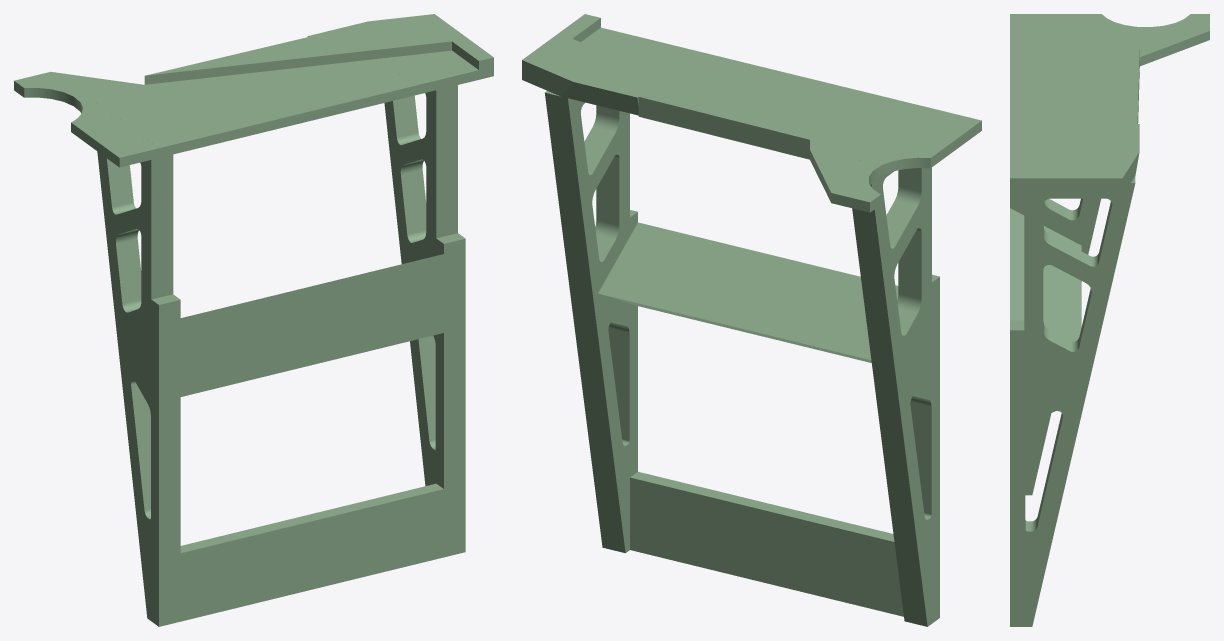
The model's file is LHS_Bes_Support.obj.
3 views of the same model, side by side, from view 1: azimuth 30°, elevation 25°; view 2: azimuth 150°, elevation 25°; view 3: azimuth 270°, elevation 25° (orthographic). The views are drawn at different scales.
Visible parts, largest first — view 1: Design2\Bed_rear_support1; view 2: Design2\Bed_rear_support1; view 3: Design2\Bed_rear_support1.
Part boxes in pixels (x1=…): Design2\Bed_rear_support1: x1=14, y1=14, x2=493, y2=626; Design2\Bed_rear_support1: x1=522, y1=14, x2=981, y2=626; Design2\Bed_rear_support1: x1=1010, y1=14, x2=1209, y2=626.
Bounding box in the file's own units: 85.96 × 107 × 41.95.
